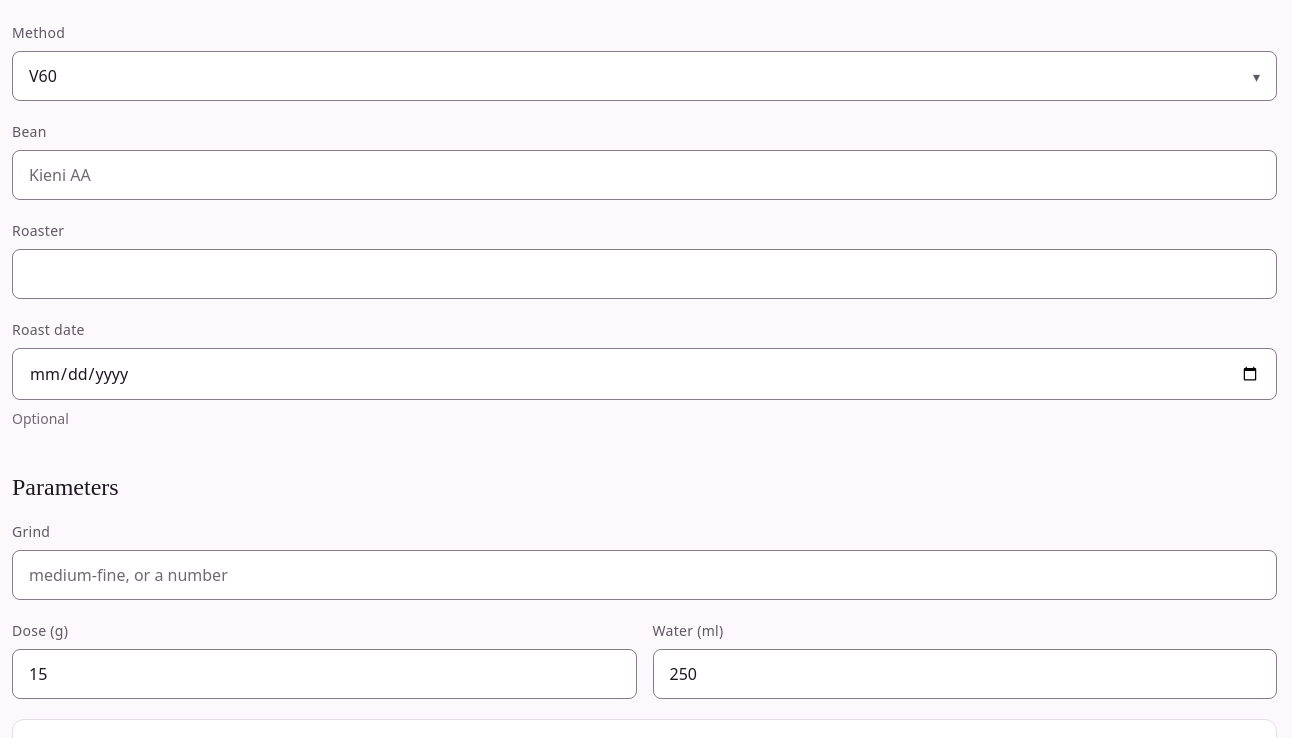
Scenario: BrewForm › computes the ratio live from dose and water
Replace the text in the number field labelled "Water (ml)" with "300": (965, 674) [652,649,1277,699]
(page scrolled)
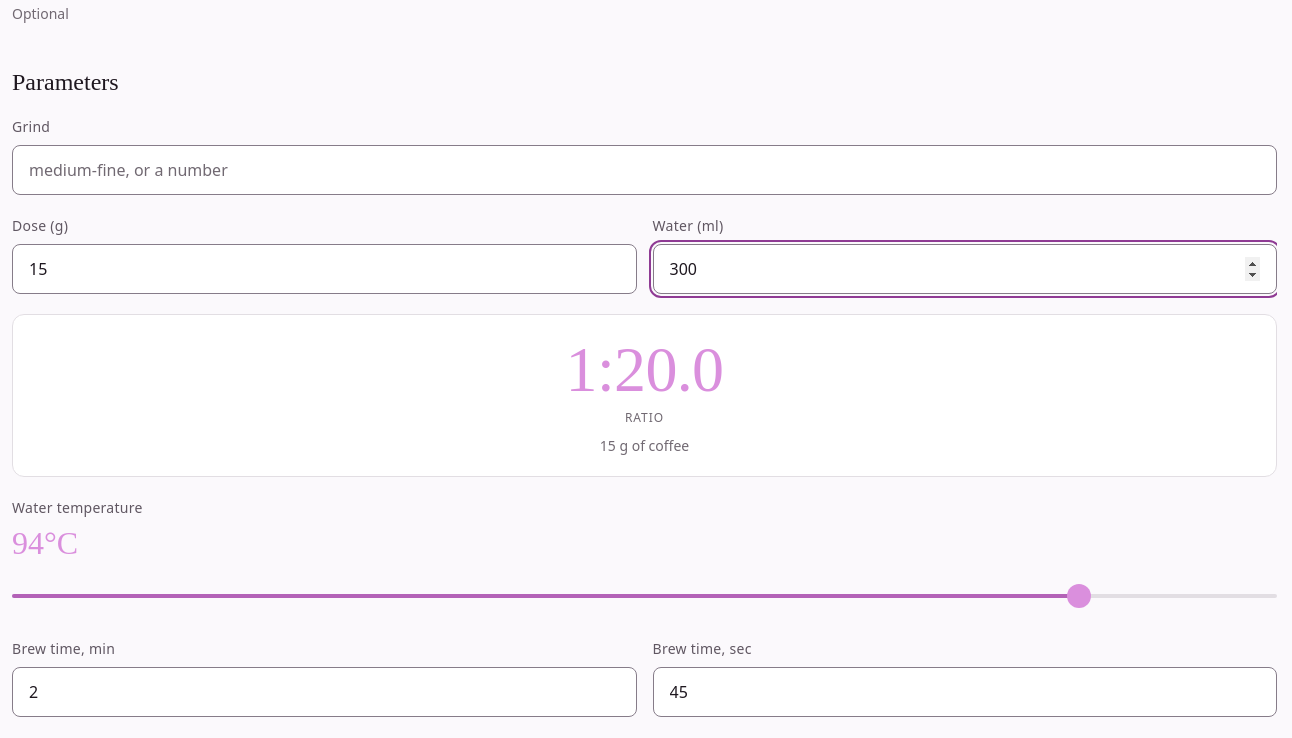
Now the text "1:20.0" is shown, box [566,334,724,405]
